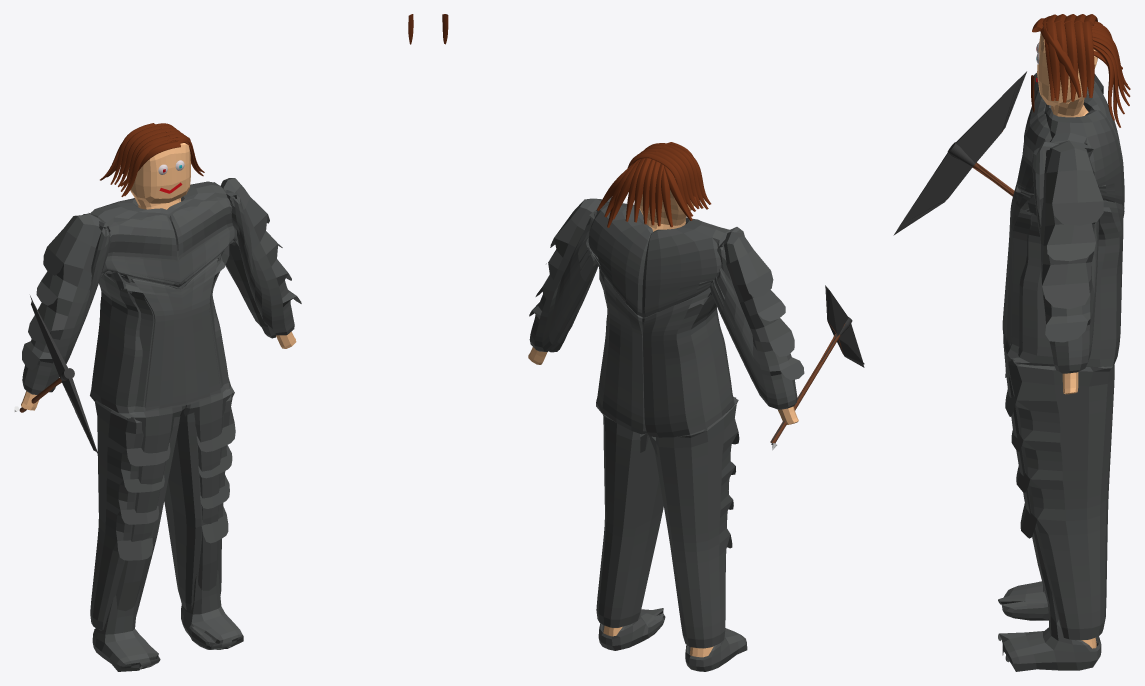
Rendered from hrdina středověk.fbx.
3 views of the same model, side by side, from view 1: azimuth 30°, elevation 25°; view 2: azimuth 150°, elevation 25°; view 3: azimuth 270°, elevation 25° (orthographic). The views are drawn at different scales.
Visible parts, largest first — view 1: Cube.001, Cube.002, Cube, Cylinder; view 2: Cube.001, Cube.002, Cylinder, Cube; view 3: Cube.001, Cube.002, Cylinder, Cube, NurbsPath.006, NurbsPath.005, NurbsPath.012, NurbsPath.011, NurbsPath.004, NurbsPath.003, NurbsPath.025.
Part boxes in pixels (bbox=[...]): Cube.001: bbox=[22, 178, 301, 630]; Cube.002: bbox=[92, 570, 243, 671]; Cube: bbox=[21, 143, 296, 410]; Cylinder: bbox=[19, 295, 99, 457]; Cube.001: bbox=[529, 197, 804, 648]; Cube.002: bbox=[598, 608, 747, 671]; Cylinder: bbox=[770, 285, 864, 444]; Cube: bbox=[528, 190, 798, 657]; Cube.001: bbox=[1002, 73, 1124, 640]; Cube.002: bbox=[998, 581, 1101, 671]; Cylinder: bbox=[893, 71, 1026, 235]; Cube: bbox=[1037, 27, 1097, 648]; NurbsPath.006: bbox=[1082, 21, 1094, 97]; NurbsPath.005: bbox=[1074, 21, 1087, 97]; NurbsPath.012: bbox=[1040, 27, 1081, 97]; NurbsPath.011: bbox=[1046, 21, 1060, 100]; NurbsPath.004: bbox=[1064, 21, 1078, 101]; NurbsPath.003: bbox=[1055, 21, 1068, 102]; NurbsPath.025: bbox=[1093, 45, 1114, 120].
Bounding box in the file's own units: 268 × 384 × 118.
